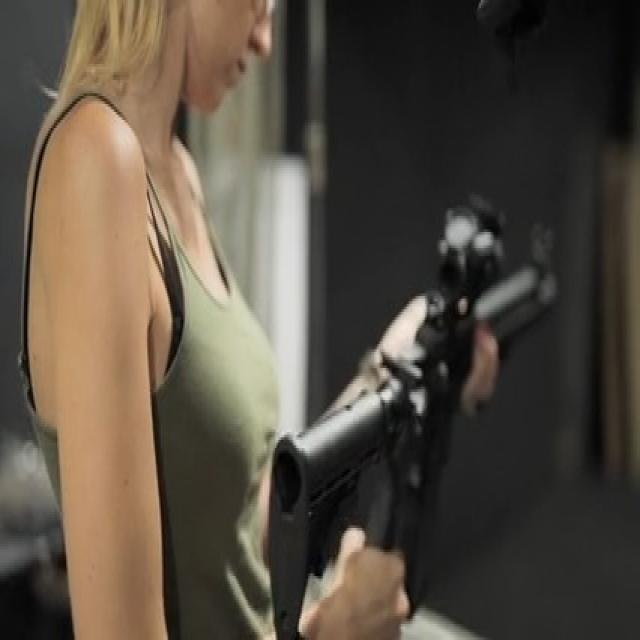Gun_Holder: (225, 187, 639, 640)
Person: (23, 0, 412, 635)
